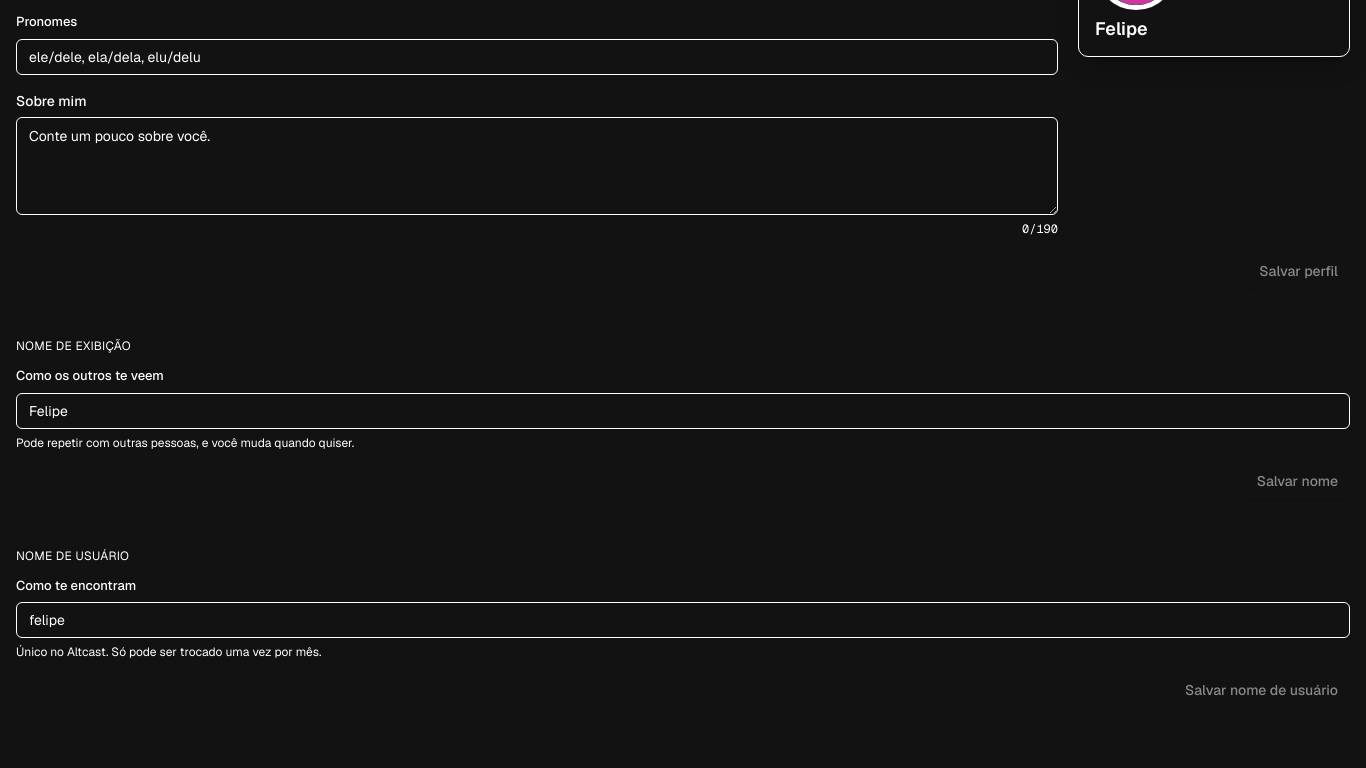
Test: tela de perfil › salvar o nome de exibição manda o PATCH e atualiza a store
This screenshot has width=1366, height=768.
Replace the text in the field labelled "Como os outros te veem" with "Felipe Menezes" at {"x": 683, "y": 411}, box [16, 393, 1350, 429]
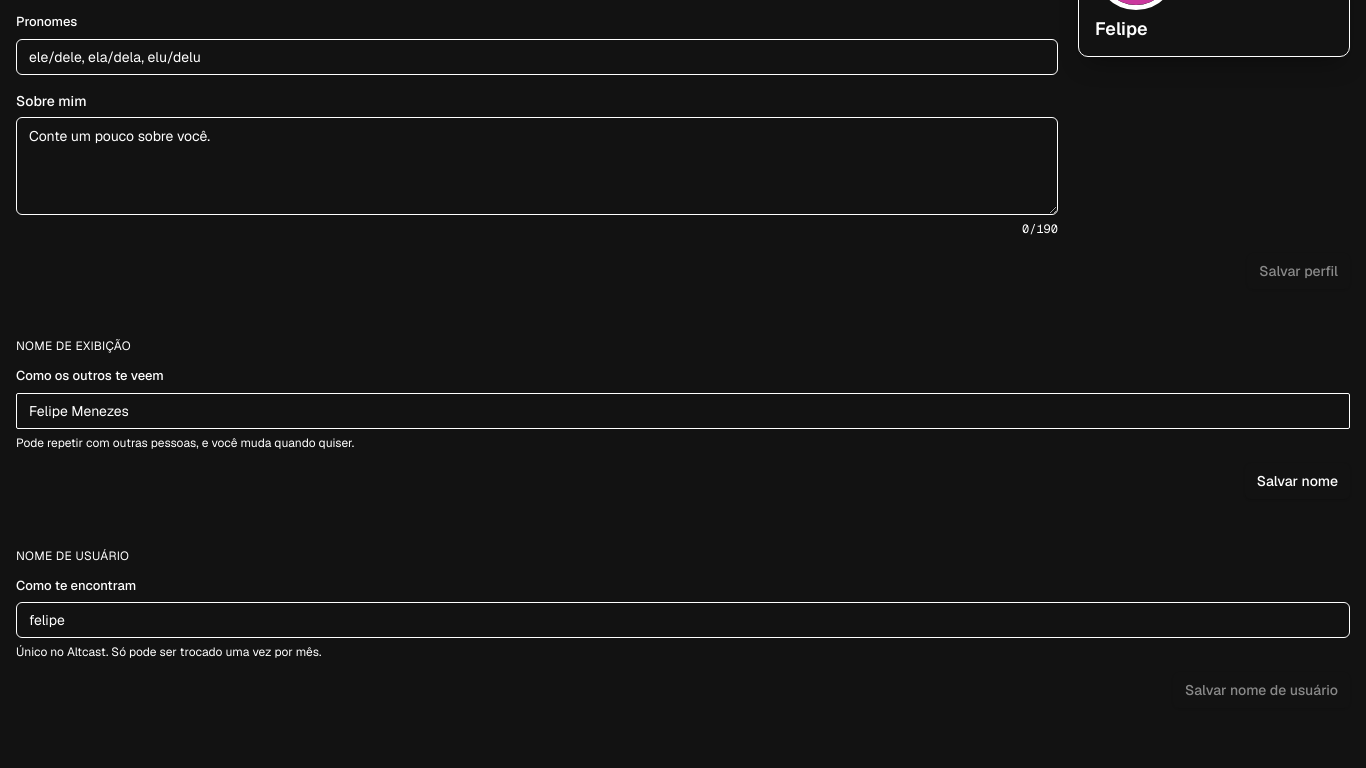
Click the button "Salvar nome" at {"x": 1297, "y": 481}, box [1245, 463, 1350, 499]
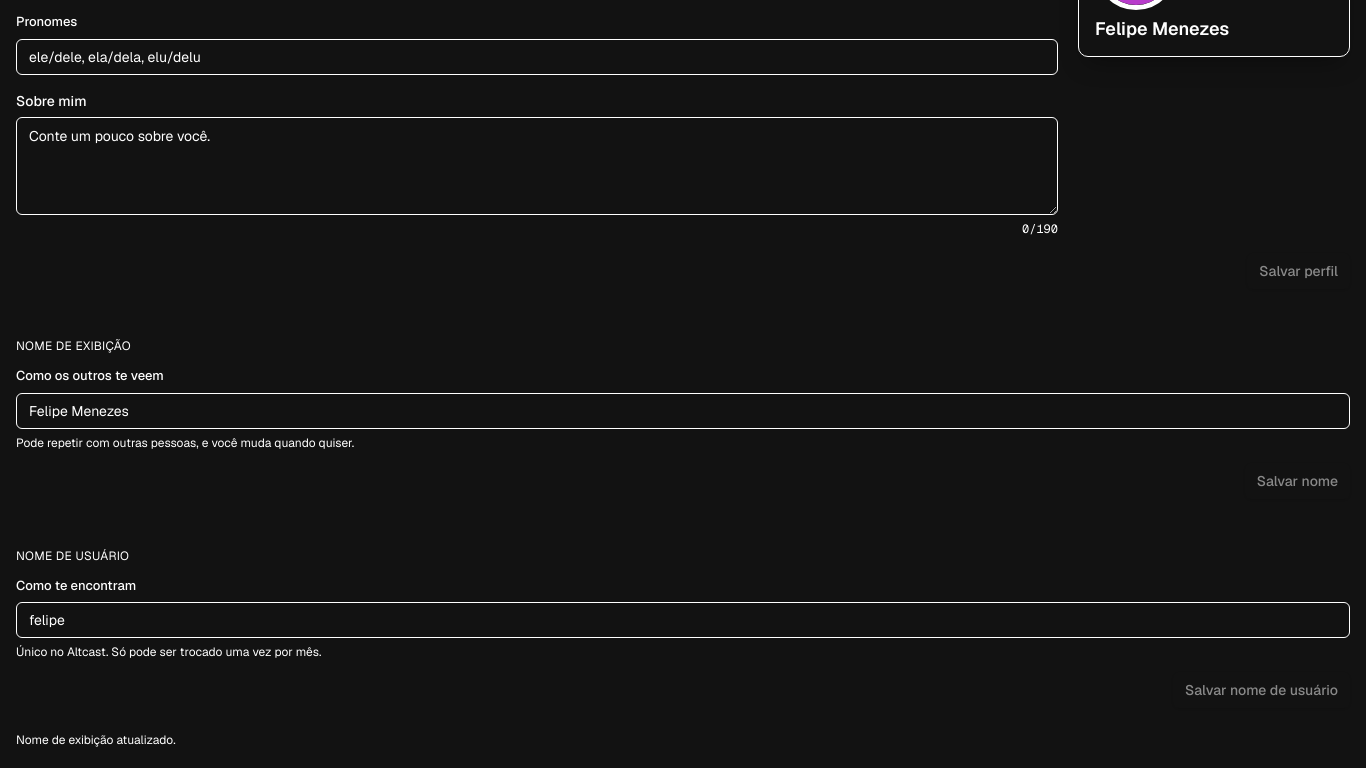
expect the text "Felipe Menezes" is shown: met, box [1095, 17, 1229, 40]
